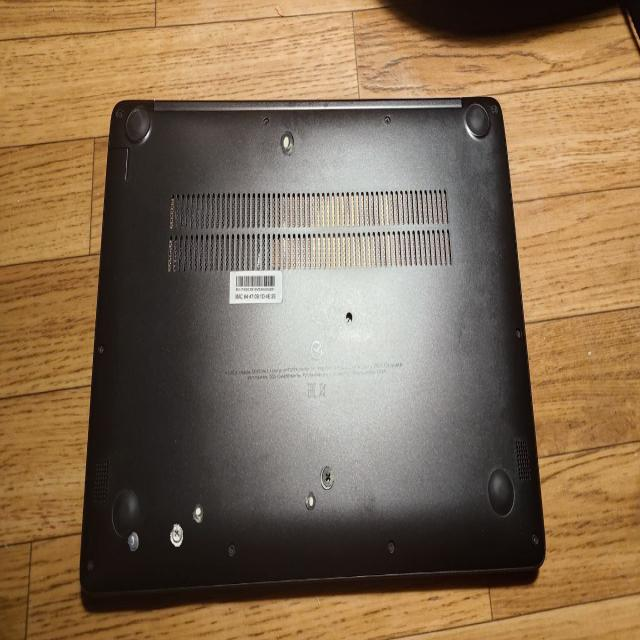lock: (319, 465, 334, 492), (170, 524, 183, 547)
missing_screw: (280, 131, 294, 156), (192, 503, 204, 523), (304, 491, 316, 510), (128, 532, 138, 551)
